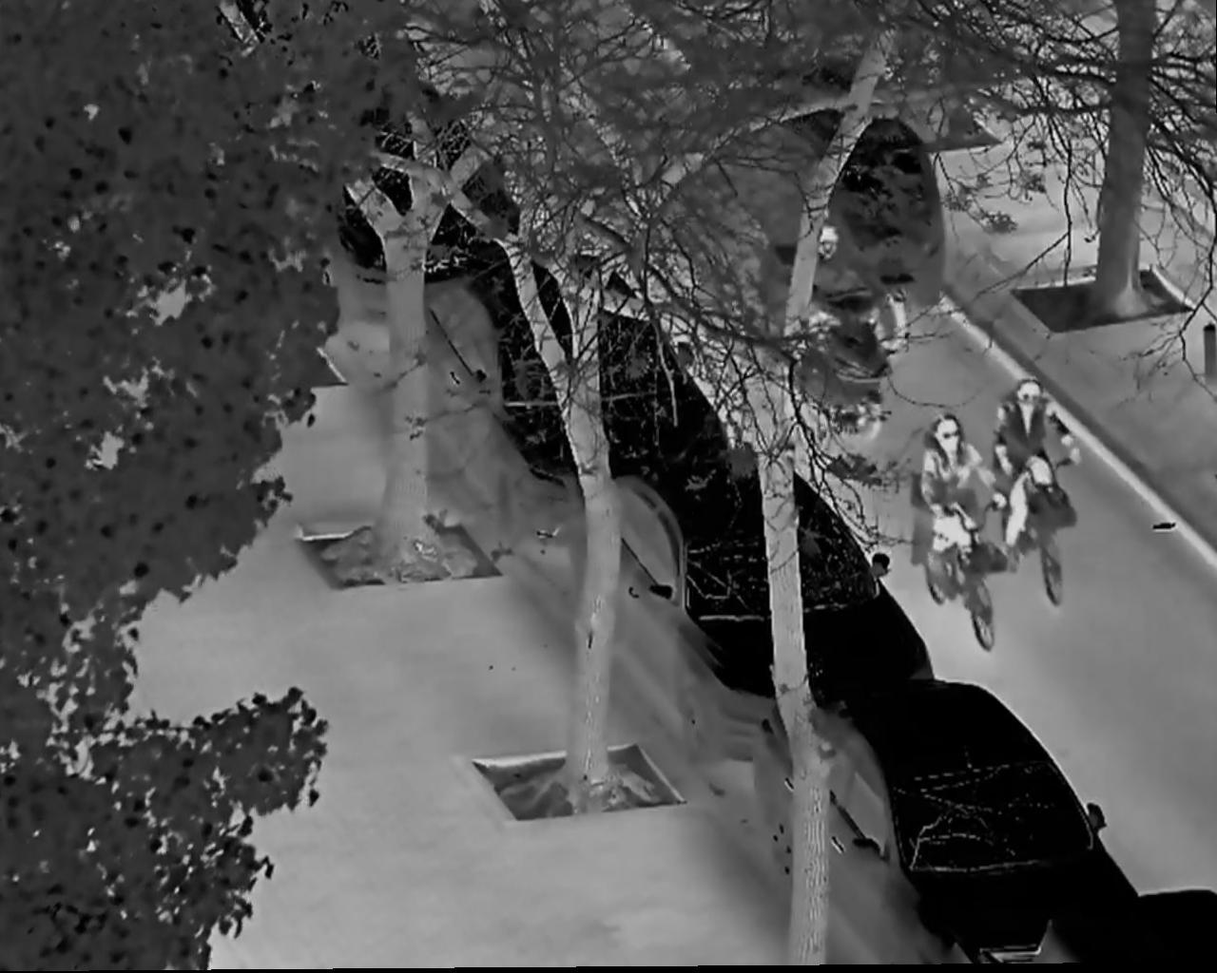person: (988, 380, 1090, 560), (914, 414, 995, 590), (792, 228, 880, 378)
